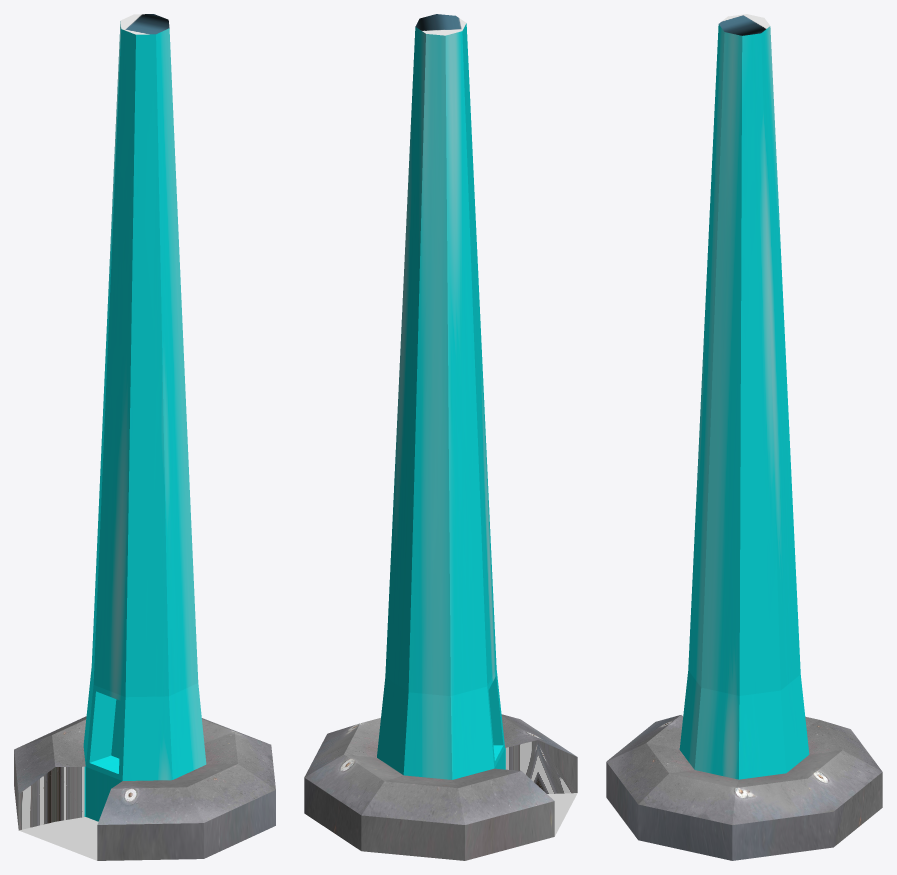
The model's file is FuelCellRecharger.fbx.
The picture shows the model from 3 angles, left to right: view 1: azimuth 30°, elevation 25°; view 2: azimuth 150°, elevation 25°; view 3: azimuth 270°, elevation 25°; orthographic projection.
Parts seen in each view (by area): view 1: Circle.022; view 2: Circle.022; view 3: Circle.022.
Part boxes in pixels (x1,y1,x2,y2): Circle.022: (14,14,275,860); Circle.022: (304,14,577,860); Circle.022: (606,14,882,860).
Bounding box in the file's own units: 19.82 × 61.54 × 19.82.
